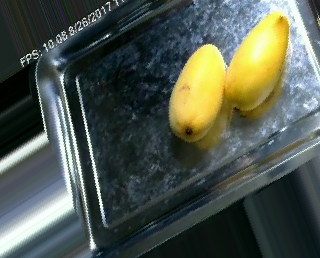Mango: (223, 12, 290, 112), (168, 43, 225, 140)
